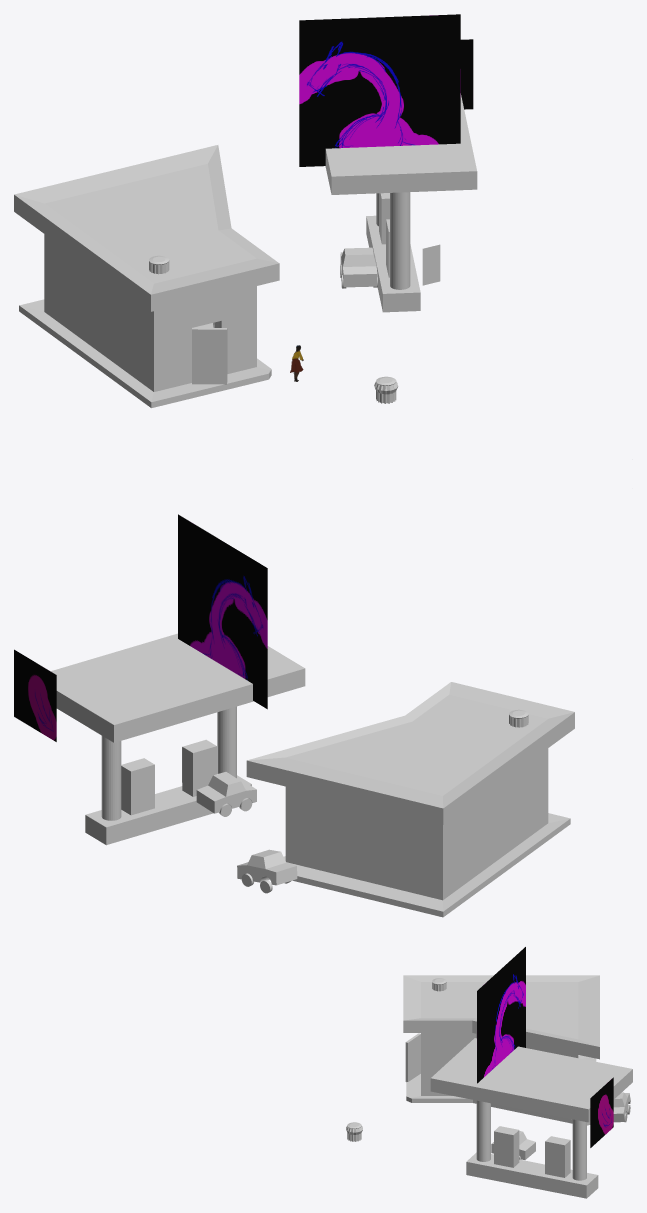
3 views of the same model, one above another, from view 1: azimuth 30°, elevation 25°; view 2: azimuth 150°, elevation 25°; view 3: azimuth 270°, elevation 25° (orthographic). The views are drawn at different scales.
Parts seen in each view (by area): view 1: building.001, right_dragon_front.001, carport_roof.001, carport_base.001, door.001, carport_pillar_near.001, car_body.001, right_dragon_tail.001, chester.001; view 2: building.001, carport_roof.001, right_dragon_front.001, carport_base.001, right_dragon_tail.001, carport_pillar_far.001, car_body.001, wrecked_car_body.001, carport_pillar_near.001; view 3: building.001, carport_roof.001, carport_base.001, right_dragon_front.001, right_dragon_tail.001, carport_pillar_near.001, carport_pillar_far.001, door.001, wrecked_car_body.001, car_body.001.
Boxes of the visible parts, <box> form: building.001: <box>14,145,279,408</box>; right_dragon_front.001: <box>299,14,460,166</box>; carport_roof.001: <box>325,93,477,194</box>; carport_base.001: <box>366,193,420,312</box>; door.001: <box>192,327,227,384</box>; carport_pillar_near.001: <box>390,192,410,289</box>; car_body.001: <box>340,247,377,287</box>; right_dragon_tail.001: <box>460,39,473,109</box>; chester.001: <box>422,244,440,285</box>; building.001: <box>246,682,574,917</box>; carport_roof.001: <box>51,633,305,742</box>; right_dragon_front.001: <box>178,514,267,709</box>; carport_base.001: <box>85,739,251,845</box>; right_dragon_tail.001: <box>14,649,56,741</box>; carport_pillar_far.001: <box>101,736,121,820</box>; car_body.001: <box>196,772,256,813</box>; wrecked_car_body.001: <box>237,849,297,885</box>; carport_pillar_near.001: <box>217,706,236,778</box>; building.001: <box>403,975,599,1125</box>; carport_roof.001: <box>430,1038,632,1122</box>; carport_base.001: <box>466,1126,598,1198</box>; right_dragon_front.001: <box>477,947,525,1083</box>; right_dragon_tail.001: <box>590,1077,613,1147</box>; carport_pillar_near.001: <box>476,1100,490,1161</box>; carport_pillar_far.001: <box>572,1119,586,1180</box>; door.001: <box>405,1033,420,1081</box>; wrecked_car_body.001: <box>613,1092,630,1122</box>; car_body.001: <box>491,1131,535,1159</box>.
Size of what is drawn, in the model's own units: 5133 by 3080 by 8463.
